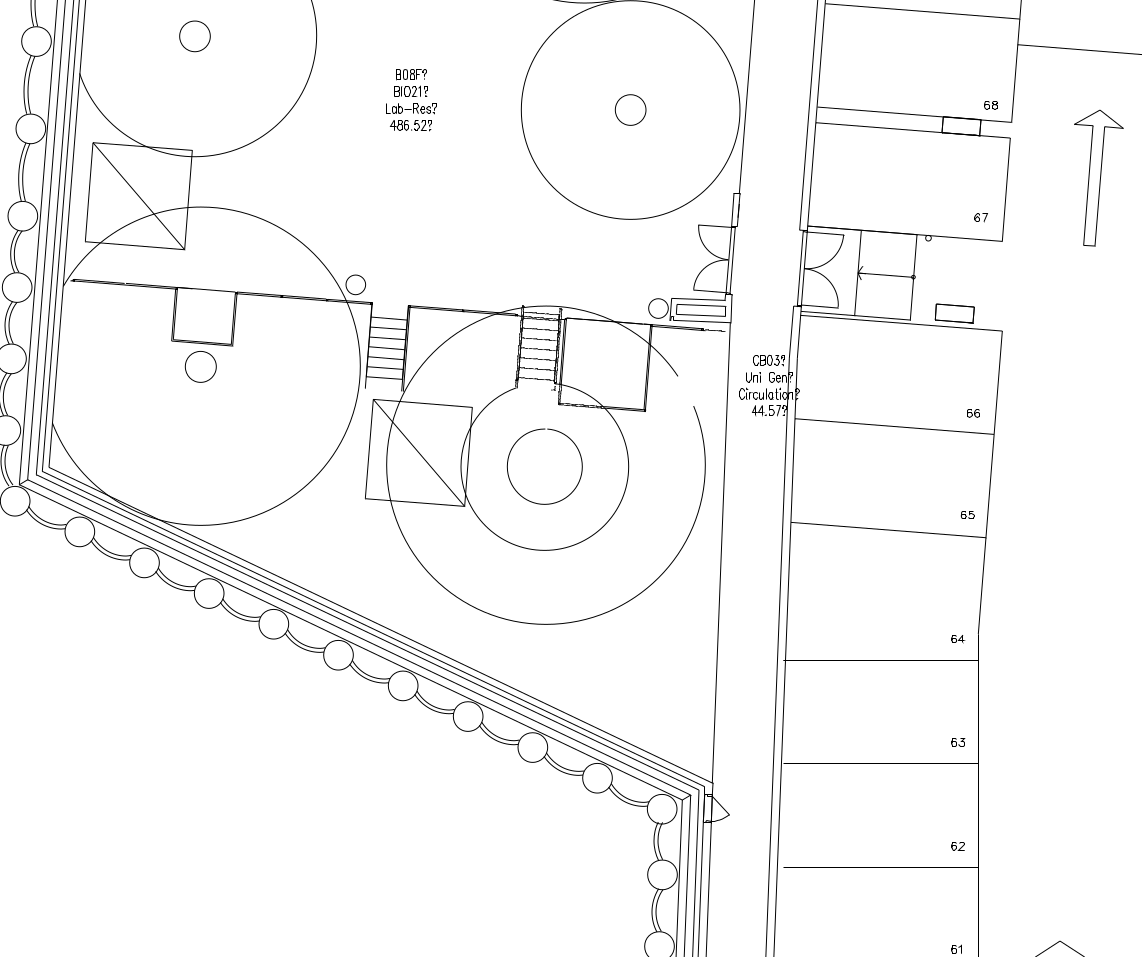door: (796, 229, 848, 311), (687, 222, 735, 296)
